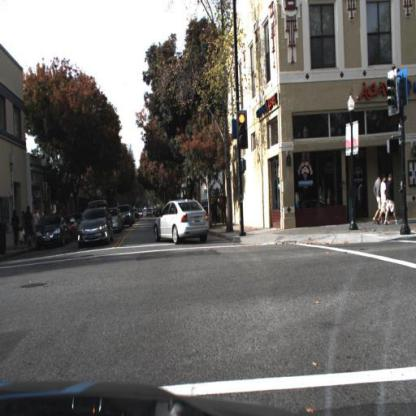car: (153, 197, 211, 248), (78, 208, 113, 247), (38, 215, 70, 249), (112, 207, 125, 235), (124, 203, 137, 231)
pedestrian: (406, 168, 416, 234), (23, 204, 33, 255), (375, 173, 384, 224), (380, 172, 388, 227), (388, 174, 396, 225), (25, 205, 33, 251), (12, 207, 20, 249), (214, 194, 222, 230), (222, 191, 229, 225), (223, 190, 229, 228), (216, 193, 222, 227), (210, 193, 215, 228), (18, 227, 25, 250)
trafficLight: (237, 111, 249, 152)
